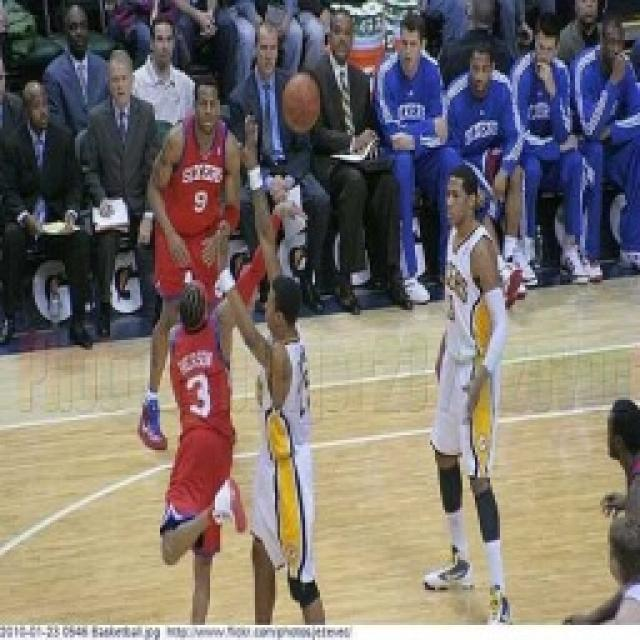rim: (274, 68, 330, 138)
